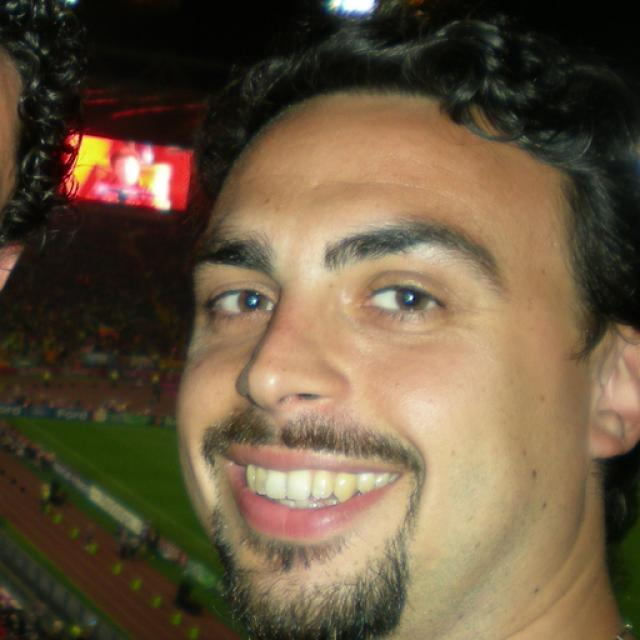happy: (176, 95, 588, 638)
